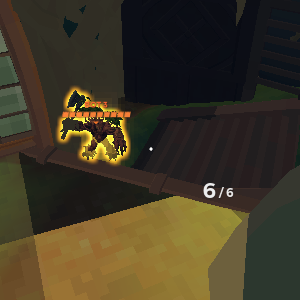model: (58, 91, 137, 163)
